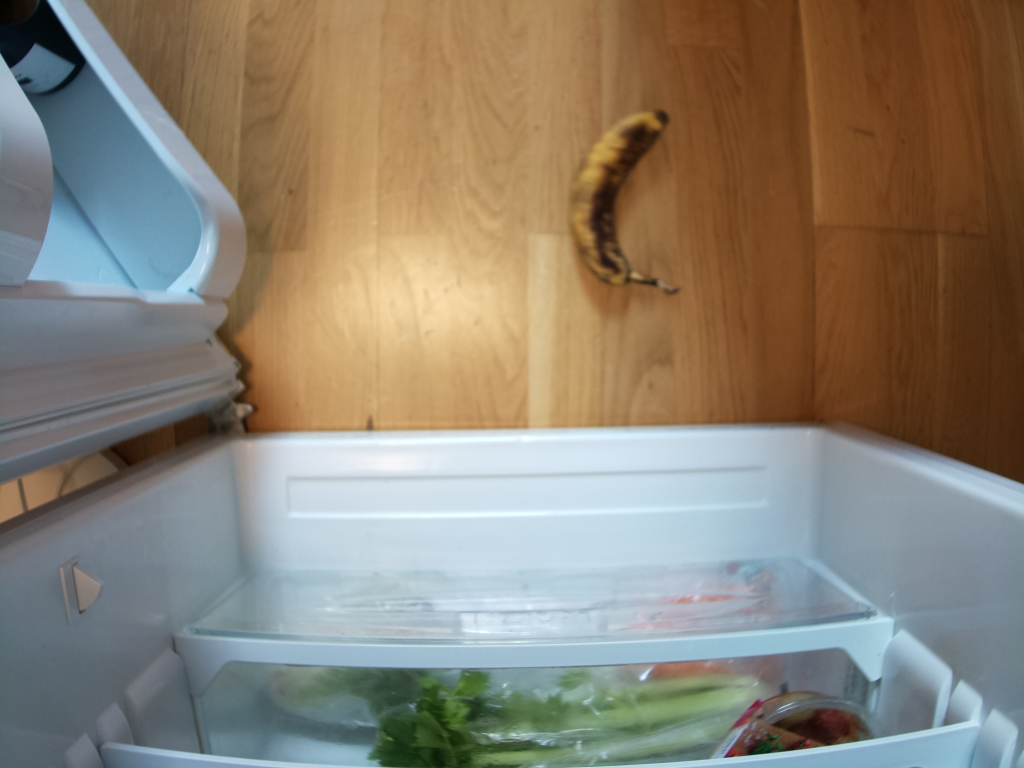banana-overripe: (563, 108, 684, 296)
